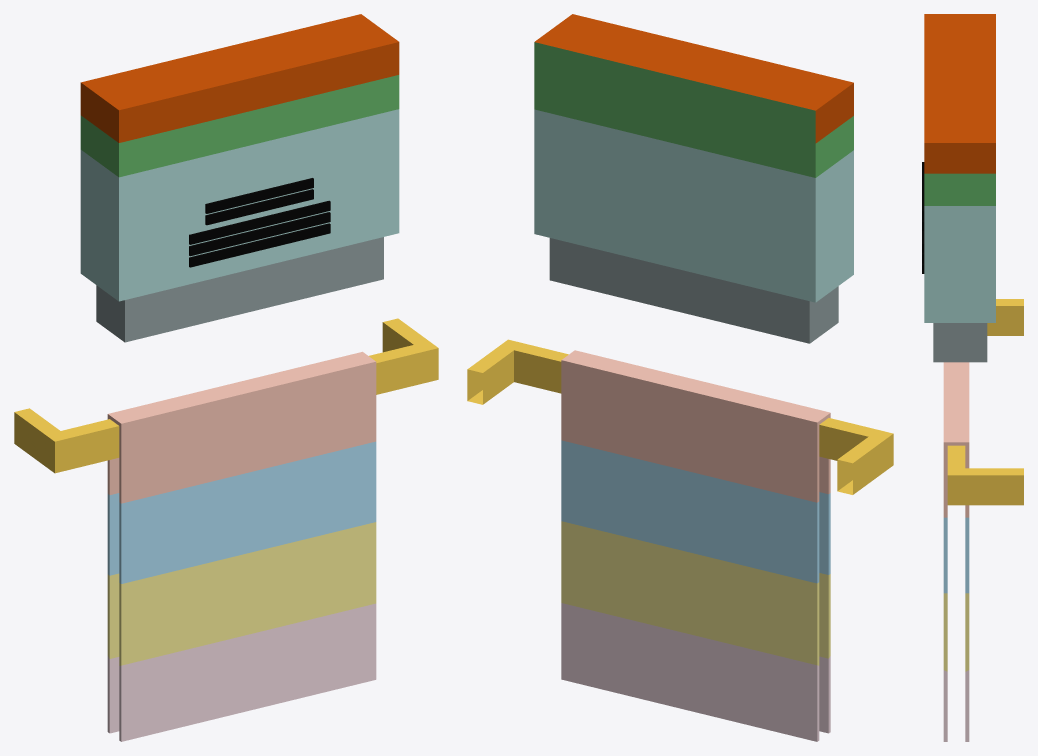
Rendered from MXC_WC_HandsDryer_lv5.fbx.
The picture shows the model from 3 angles, left to right: view 1: azimuth 30°, elevation 25°; view 2: azimuth 150°, elevation 25°; view 3: azimuth 270°, elevation 25°; orthographic projection. The views are drawn at different scales.
Parts seen in each view (by area): view 1: MXC_WC_HandsDryer_lv5; view 2: MXC_WC_HandsDryer_lv5; view 3: MXC_WC_HandsDryer_lv5.
Part boxes in pixels (x1,y1,x2,y2): MXC_WC_HandsDryer_lv5: (14,14,438,741); MXC_WC_HandsDryer_lv5: (467,14,893,741); MXC_WC_HandsDryer_lv5: (922,14,1023,741).
Bounding box in the file's own units: 104 × 167 × 25.49.
